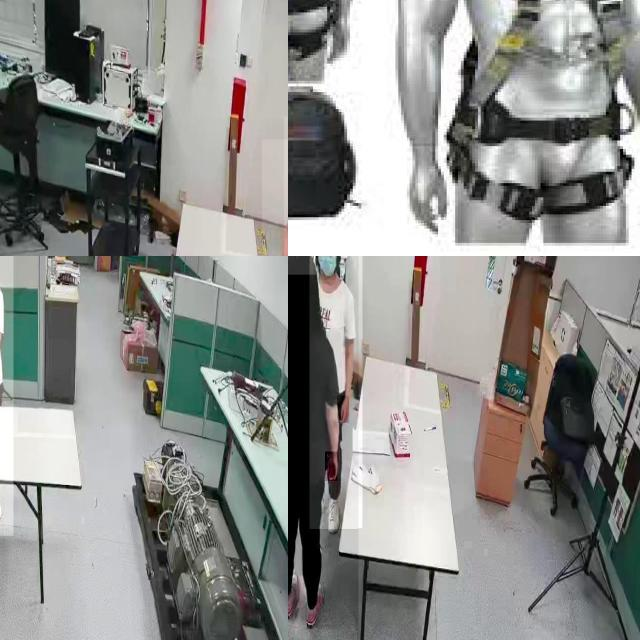Harness: (441, 0, 636, 225)
face_mask: (314, 256, 335, 280)
hand_noglove: (325, 452, 338, 482), (337, 396, 349, 424)
head_nohelmet: (288, 256, 316, 275)
person: (288, 256, 359, 640), (309, 256, 362, 529), (0, 256, 14, 536)
shoes: (302, 577, 326, 630), (324, 496, 342, 538), (288, 566, 301, 622), (0, 485, 4, 520)
